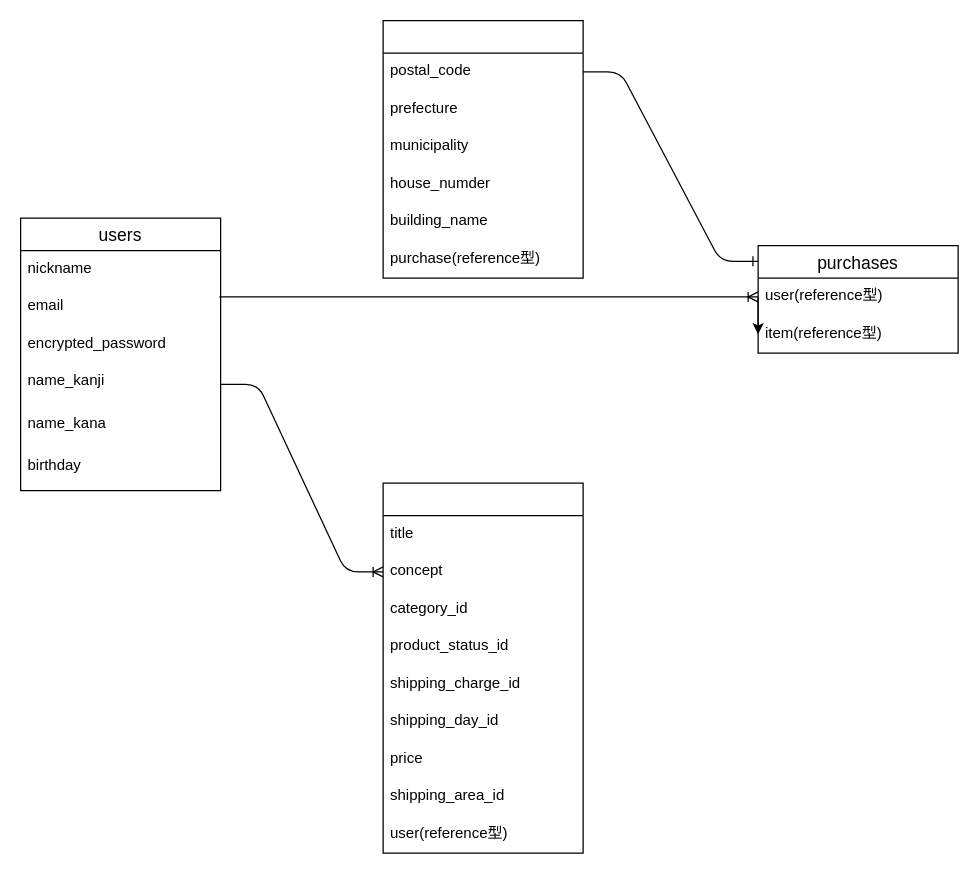
Some shapes in this 979 by 874 pixel diagram are drawn without their labels. Each missing label, with the box of its shape:
adress: (382, 19, 583, 278)
items: (382, 482, 583, 853)
